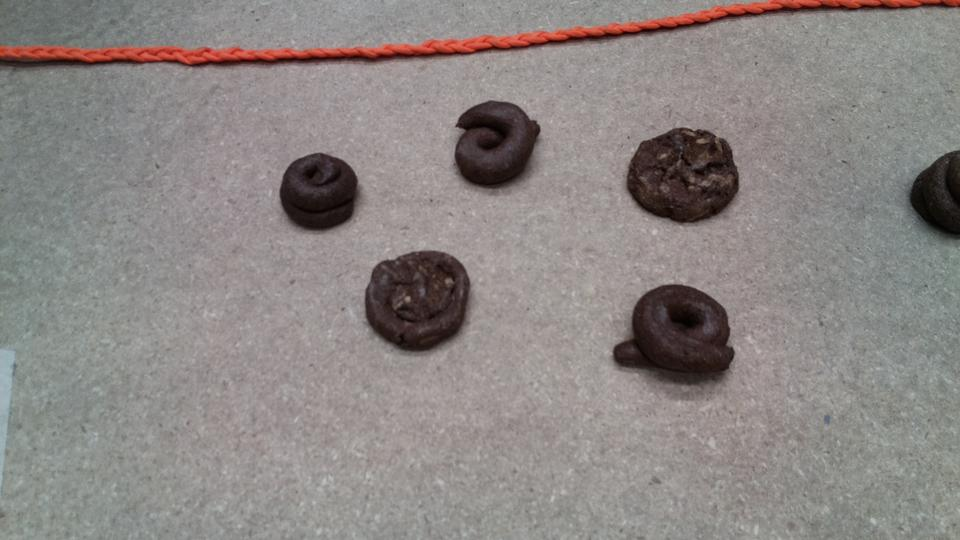poop: (612, 282, 742, 390), (360, 248, 476, 354), (625, 125, 743, 224), (450, 99, 544, 192), (274, 145, 366, 234)
rope: (1, 28, 584, 73), (537, 10, 760, 49)
